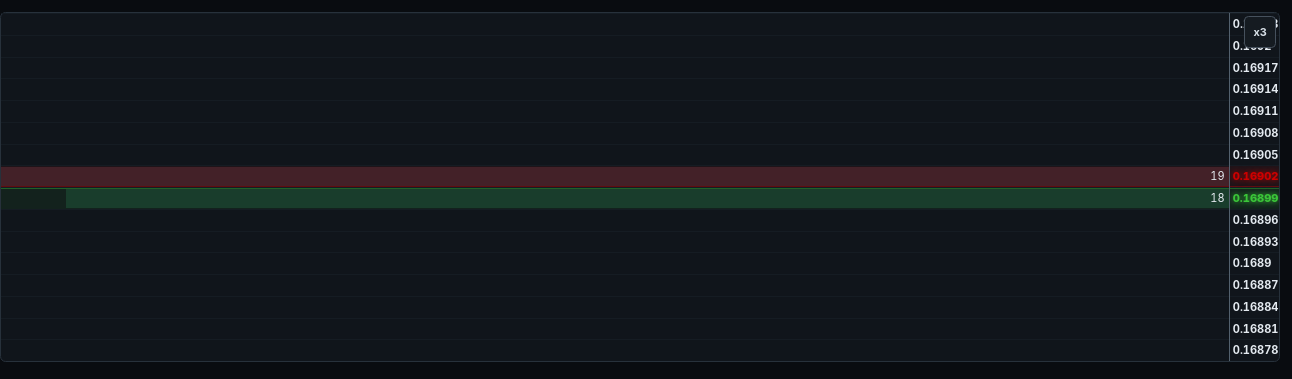
Test: DOM compression editor › preserves the existing validation and rejects values above 100
Click the button named "DOM compression" at (1260, 32), box [1244,16,1276,48]
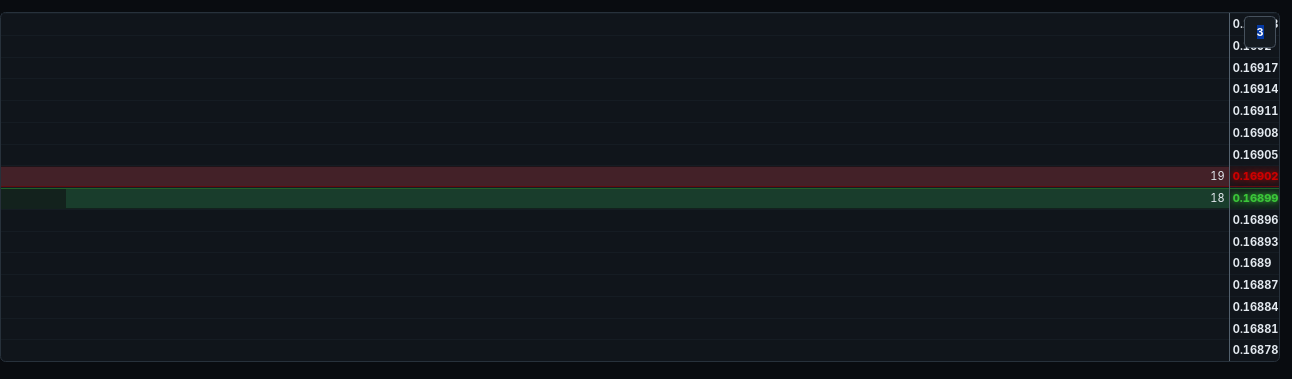
Replace the text in the field named "DOM compression" with "101" at (1260, 32), box [1244,16,1276,48]
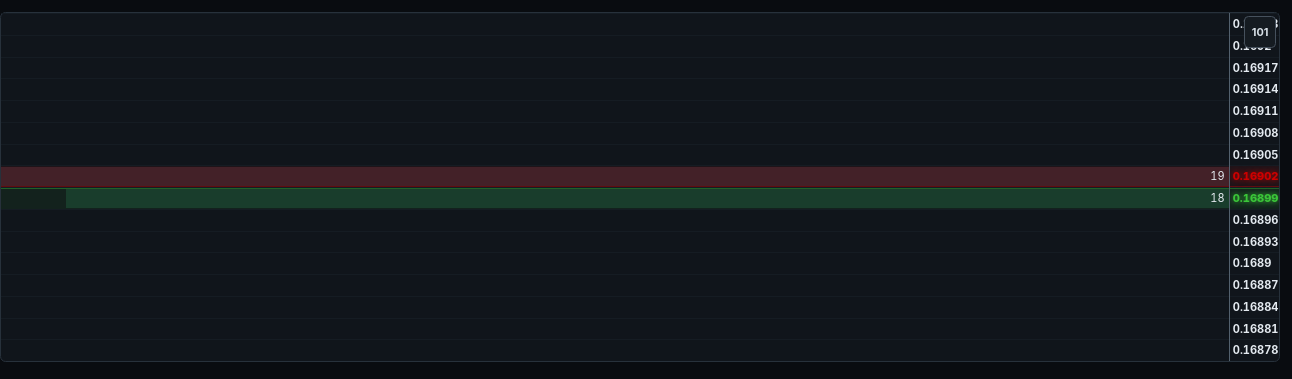
Leave the field named "DOM compression", box [1244,16,1276,48]
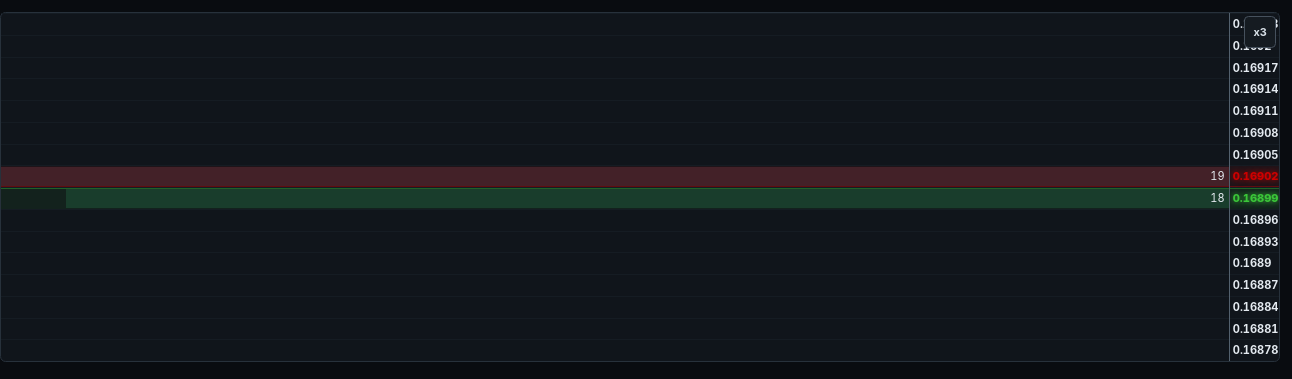
Expected: the button named "DOM compression" reads "x3", [1244,16,1276,48]
